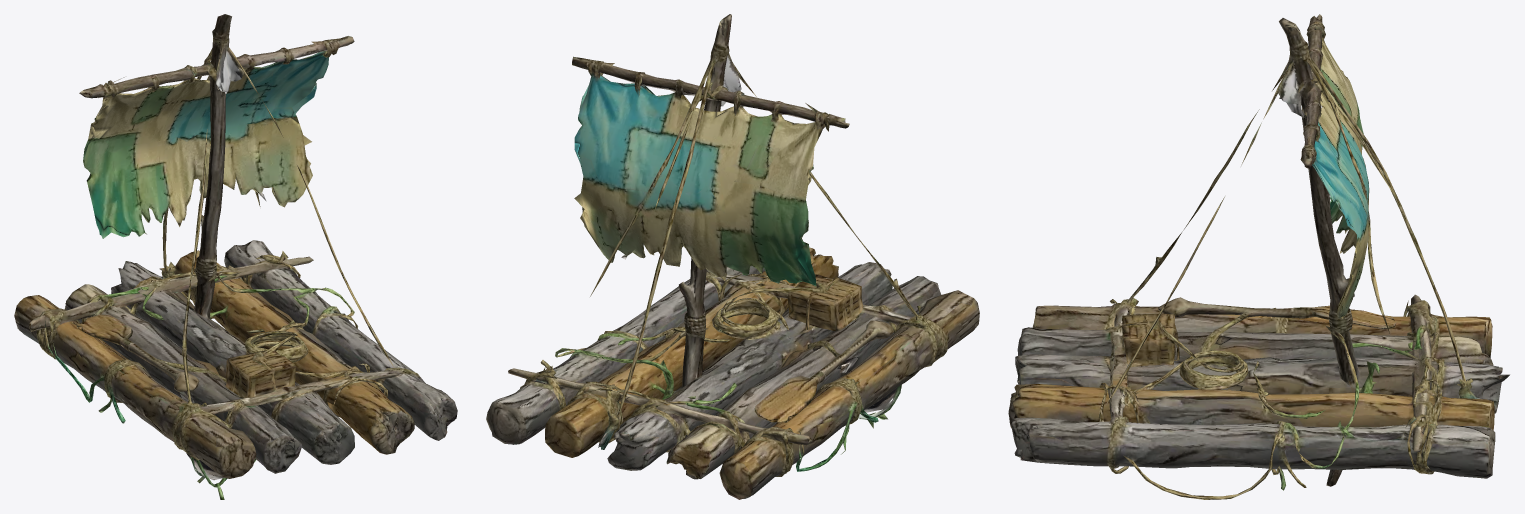
Rendered from sw-raft.glb.
The picture shows the model from 3 angles, left to right: view 1: azimuth 30°, elevation 25°; view 2: azimuth 150°, elevation 25°; view 3: azimuth 270°, elevation 25°; orthographic projection. The views are drawn at different scales.
Visible parts, largest first — view 1: geometry_0; view 2: geometry_0; view 3: geometry_0.
Boxes of the visible parts, x1,y1,x2,y2 form: geometry_0: (14, 14, 457, 499); geometry_0: (486, 14, 979, 499); geometry_0: (1008, 14, 1509, 499).
Bounding box in the file's own units: 0.5822 × 0.8294 × 0.8187.
Materials: 1 (1 with a texture image).
